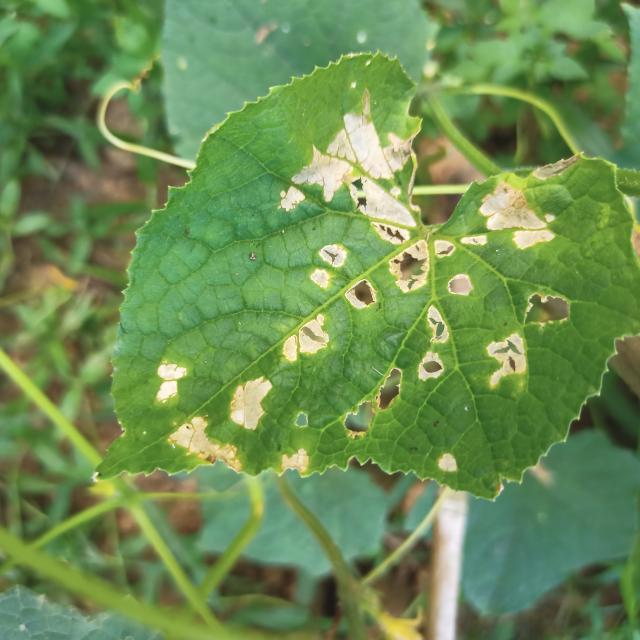disease_cucumber: (278, 89, 579, 396), (118, 312, 412, 481), (418, 446, 472, 479)
